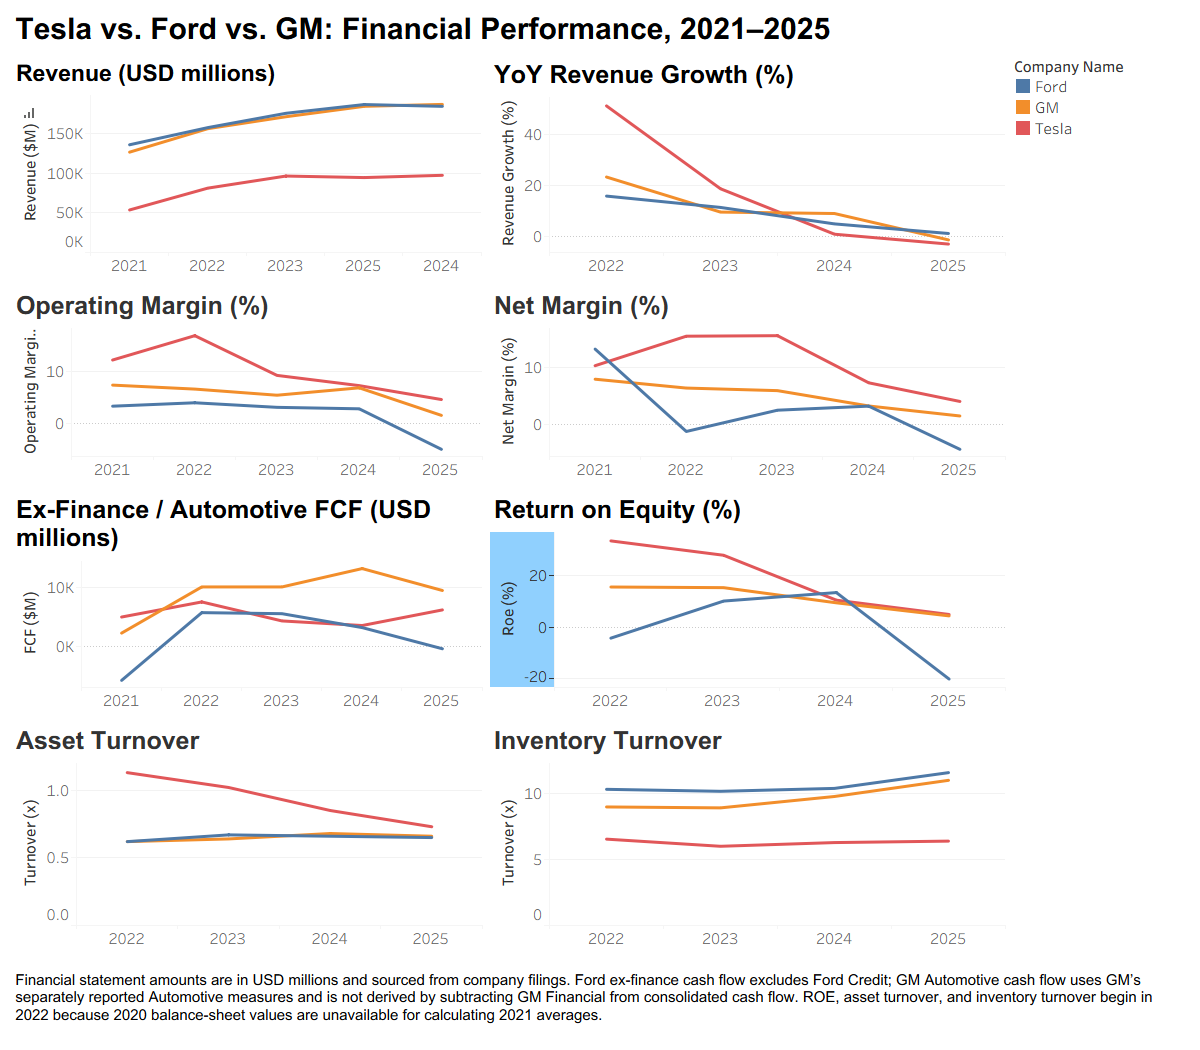

The page's visual inventory and layout, read from the dashboard file:
{"tool":"tableau","page":{"name":"Dashboard 1","canvas":[1200,1050],"ordinal":0},"visuals":[{"type":"title","box":[8,8,1184,42]},{"type":"worksheet","title":"revenue trend","mark":"Line","rows":["revenue"],"cols":["fiscal_year"],"box":[8,50,478,231]},{"type":"worksheet","title":"Revenue Growth","mark":"Line","rows":["revenue_growth_pct"],"cols":["fiscal_year"],"box":[486,50,523,231.1]},{"type":"legend","title":"revenue trend","param":"[federated.1immvpq0cpdujz111yd781oy8mfx].[none:company_name:nk]","box":[1009,50,183,93]},{"type":"worksheet","title":"operating margin","mark":"Line","rows":["operating_margin_pct"],"cols":["fiscal_year"],"box":[8,281,478,203.6]},{"type":"worksheet","title":"Net Margin Trend","mark":"Line","rows":["net_margin_pct"],"cols":["fiscal_year"],"box":[486,281.1,523,203.5]},{"type":"worksheet","title":"Ex-Finance Free Cash Flow","mark":"Line","rows":["ex_finance_free_cash_flow"],"cols":["fiscal_year"],"box":[8,484.6,478,231.1]},{"type":"worksheet","title":"Return on Equity","mark":"Line","rows":["roe_pct"],"cols":["fiscal_year"],"box":[486,484.6,523,231.1]},{"type":"worksheet","title":"Asset Turnover","mark":"Line","rows":["asset_turnover"],"cols":["fiscal_year"],"box":[8,715.7,478,238.3]},{"type":"worksheet","title":"Inventory Turnover","mark":"Line","rows":["inventory_turnover"],"cols":["fiscal_year"],"box":[486,715.7,523,238.3]},{"type":"text","box":[8,954,1184,88]}]}

Visuals, with their boxes in screenshot pixels (x1, y1, x2, y2), scaled from the page's 1200x1050 canvas onto the 1200x1050 screenshot:
title: bbox(8, 8, 1192, 50)
"revenue trend" worksheet (Line marks): bbox(8, 50, 486, 281)
"Revenue Growth" worksheet (Line marks): bbox(486, 50, 1009, 281)
"revenue trend" legend: bbox(1009, 50, 1192, 143)
"operating margin" worksheet (Line marks): bbox(8, 281, 486, 485)
"Net Margin Trend" worksheet (Line marks): bbox(486, 281, 1009, 485)
"Ex-Finance Free Cash Flow" worksheet (Line marks): bbox(8, 485, 486, 716)
"Return on Equity" worksheet (Line marks): bbox(486, 485, 1009, 716)
"Asset Turnover" worksheet (Line marks): bbox(8, 716, 486, 954)
"Inventory Turnover" worksheet (Line marks): bbox(486, 716, 1009, 954)
text: bbox(8, 954, 1192, 1042)
